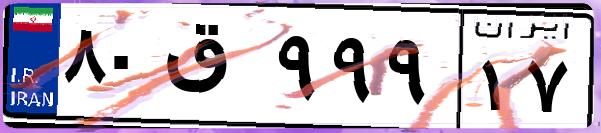0: (110, 28, 158, 98)
1: (475, 38, 525, 113)
7: (525, 38, 570, 115)
8: (57, 26, 110, 100)
9: (270, 28, 330, 110), (385, 28, 445, 110), (330, 28, 385, 110)
ق: (158, 20, 270, 120)
